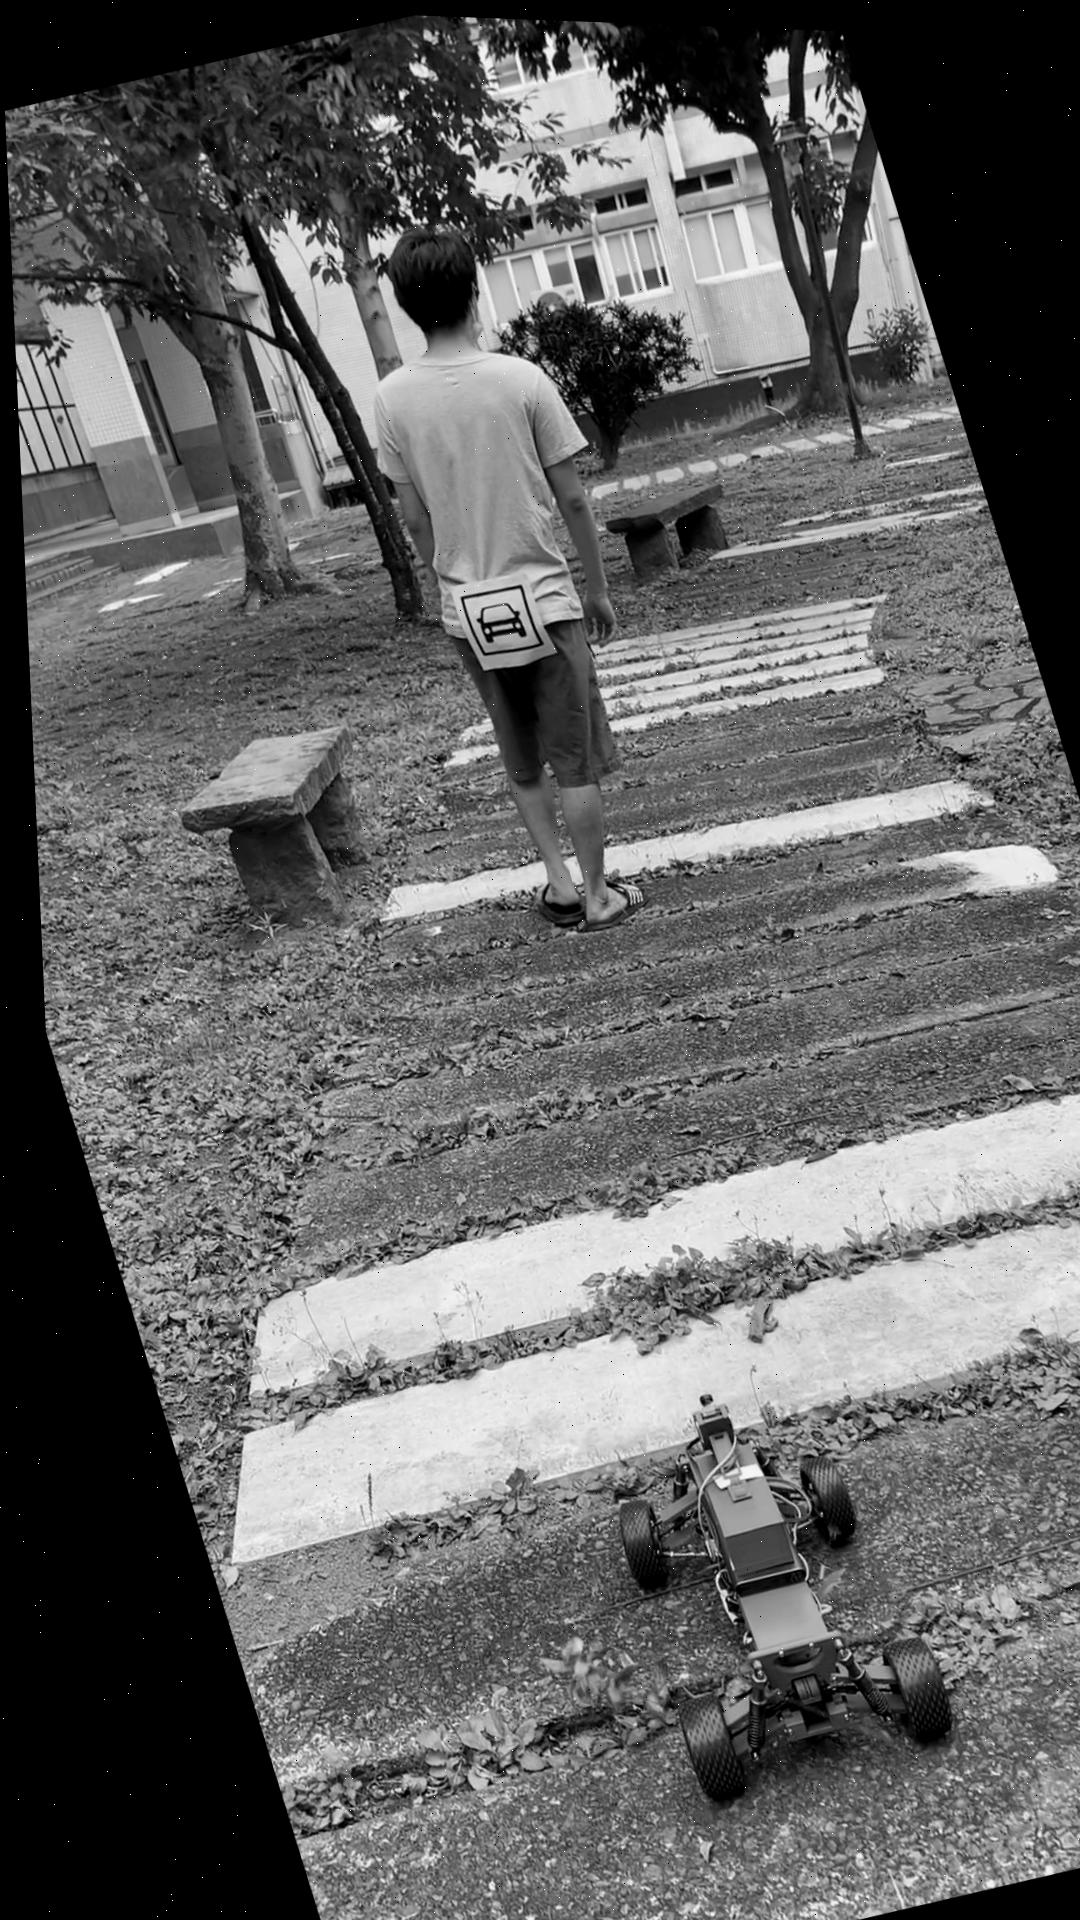car_img: (452, 574, 541, 659)
